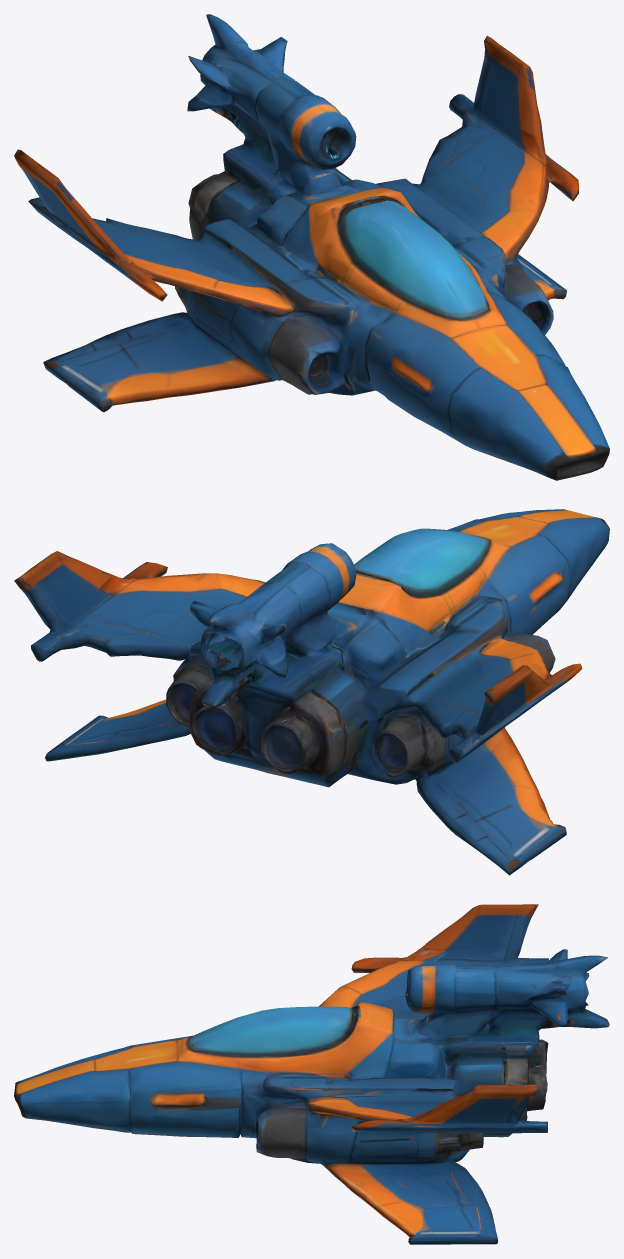
The model's file is spaceship0.glb.
The picture shows the model from 3 angles, top to bottom: view 1: azimuth 30°, elevation 25°; view 2: azimuth 150°, elevation 25°; view 3: azimuth 270°, elevation 25°; orthographic projection. The views are drawn at different scales.
Parts seen in each view (by area): view 1: Mesh_0; view 2: Mesh_0; view 3: Mesh_0.
Part boxes in pixels (box(x1,y1,x2,y2)): Mesh_0: box(14, 14, 609, 480); Mesh_0: box(14, 509, 609, 875); Mesh_0: box(14, 904, 609, 1244).
Bounding box in the file's own units: 1.2 × 0.6019 × 1.63.
Materials: 1 (1 with a texture image).
